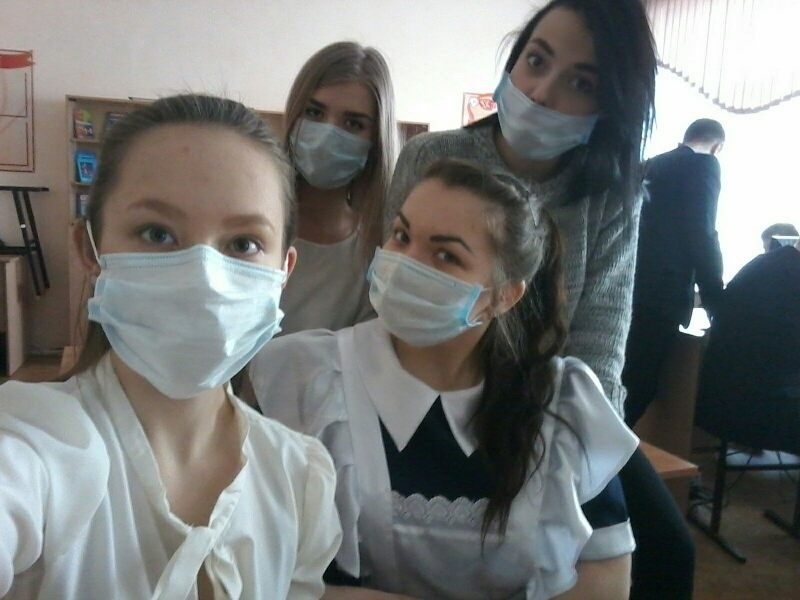face_with_mask: (70, 115, 306, 420), (355, 168, 533, 370), (474, 0, 632, 176), (278, 59, 393, 205)
